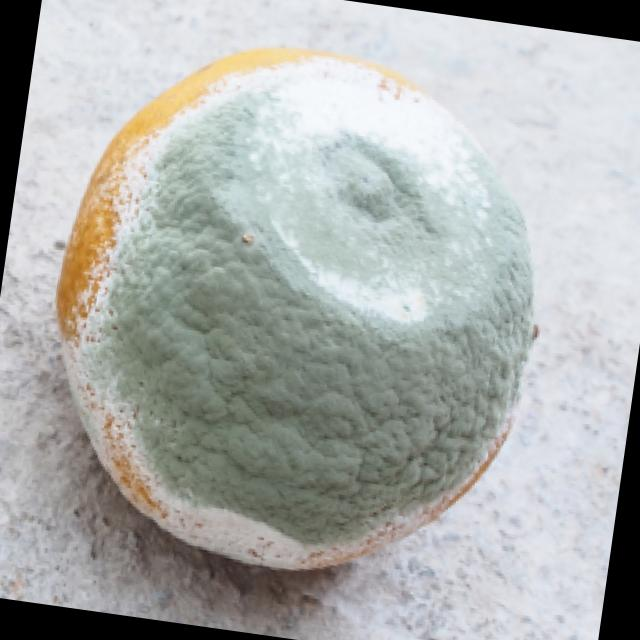rotten-orange: (20, 17, 570, 605)
